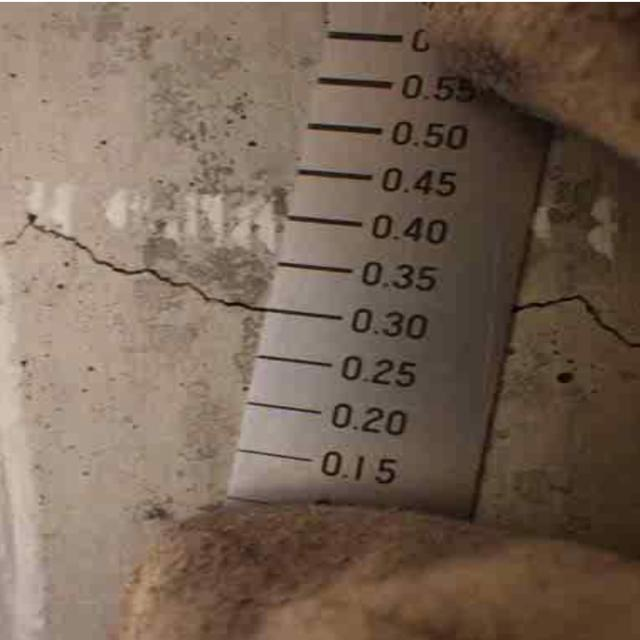crack: (11, 201, 276, 343), (513, 278, 640, 363)
